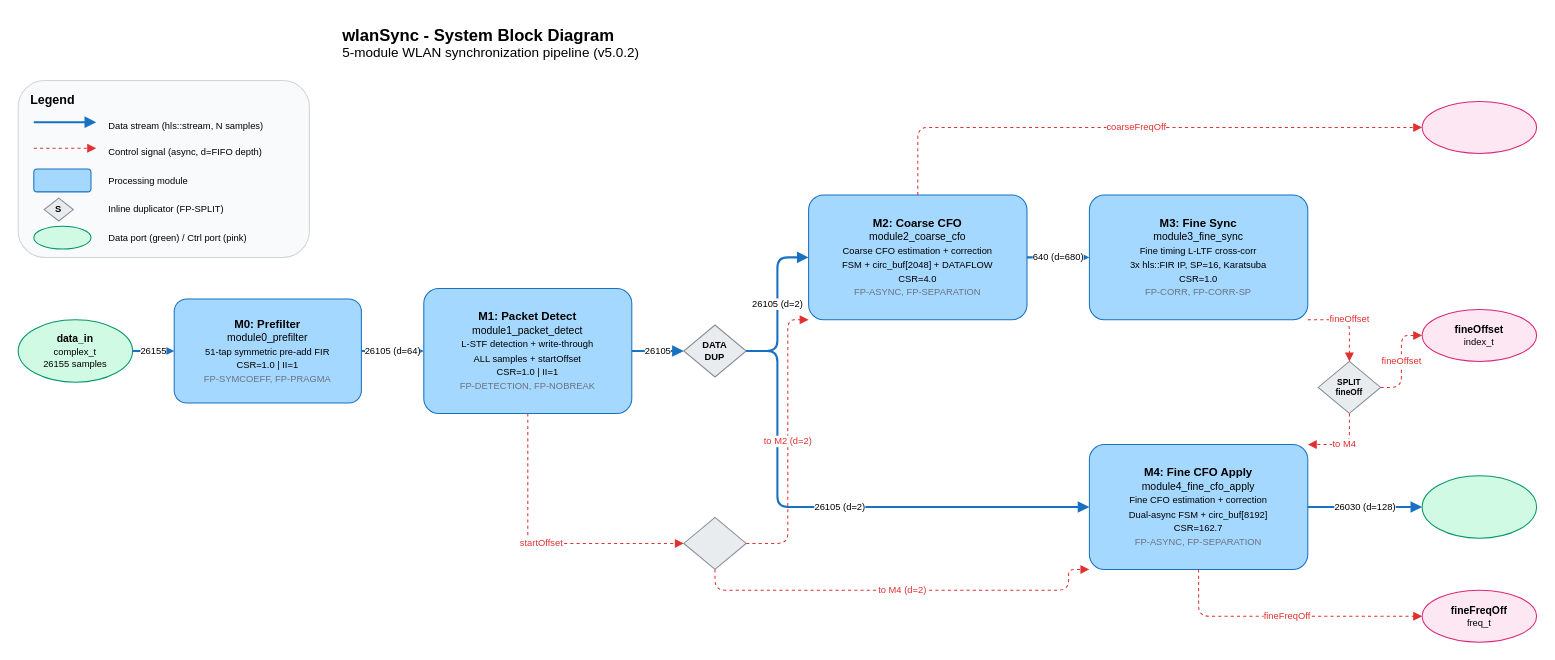
This 1555x660 diagram has some shape labels left out. The shapes that lost their labels are listed below. From the top down, each one's box as (x1, y1, x2, y2) in pixels, then its label:
(1421, 100, 1537, 153): coarseFreqOff freq_t
(33, 168, 91, 192): M#
(33, 225, 91, 249): I/O
(1421, 475, 1537, 538): data_out complex_t 26030 samples
(683, 516, 746, 569): SPLIT startOff
